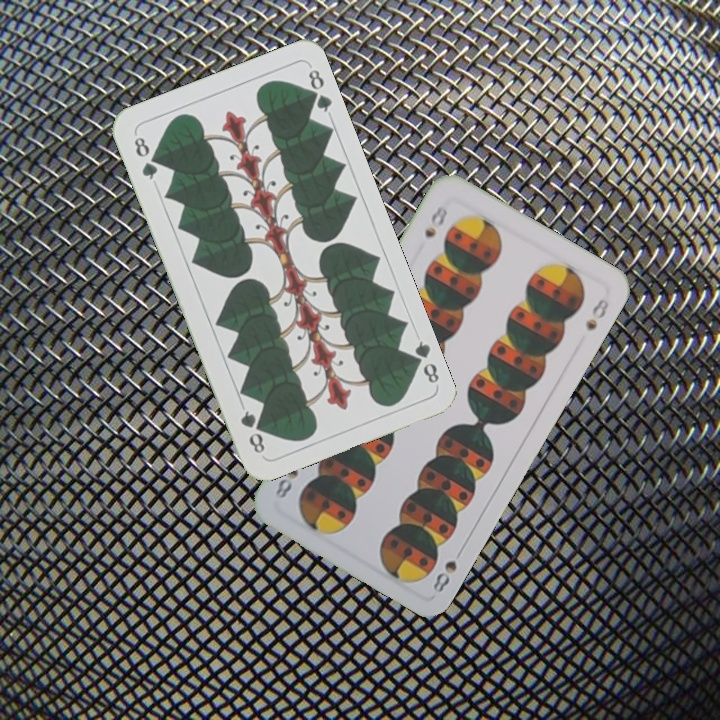G8: (405, 336, 442, 386), (129, 132, 161, 183)
S8: (428, 542, 467, 595), (420, 201, 450, 241)
